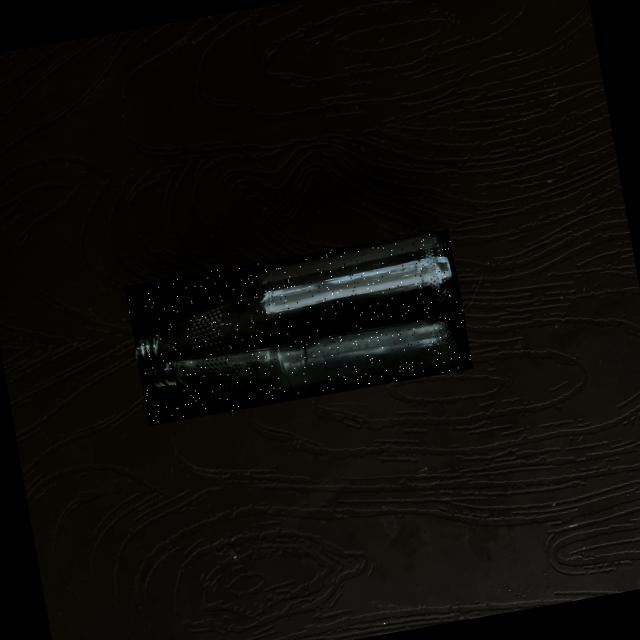Glass_Bottle: (136, 232, 470, 397)
